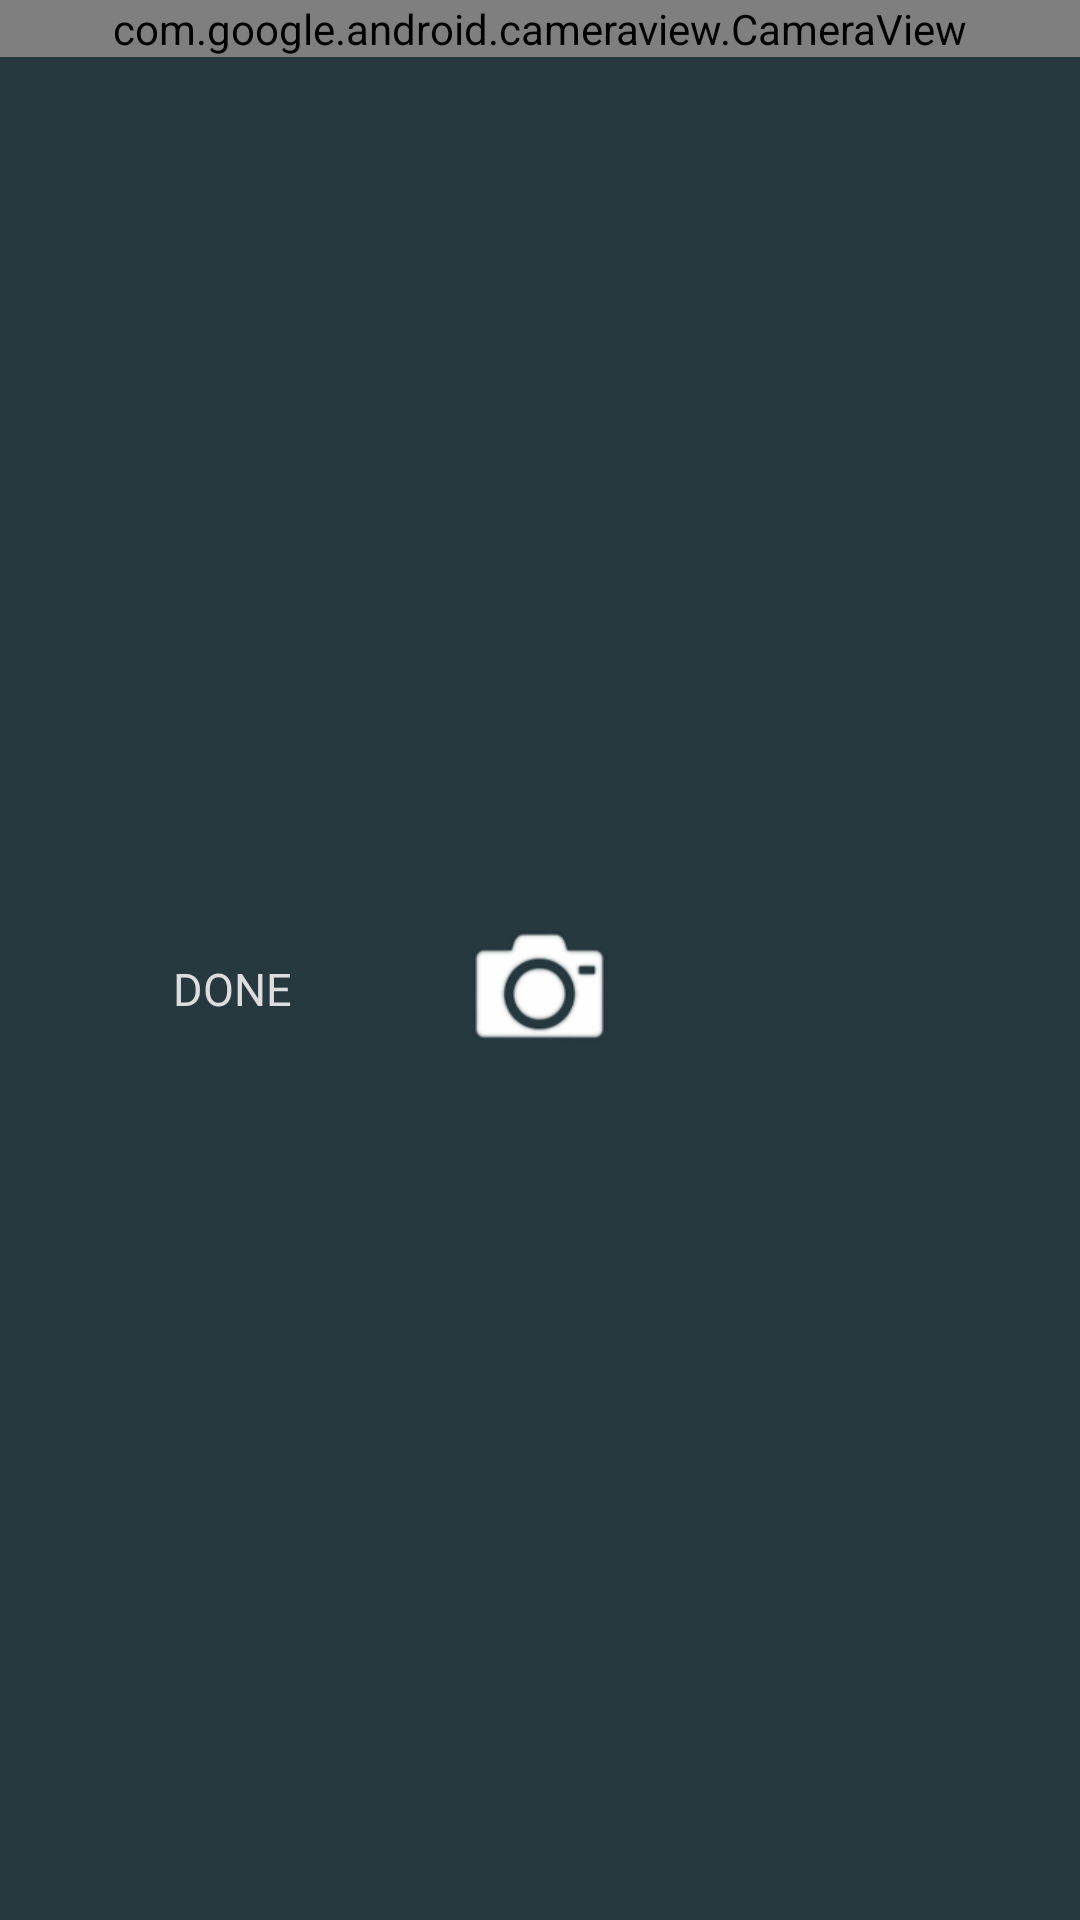

Icons on this 1080 × 1920 Android screen, each with its box as (x1, y1, x2, y2):
camera: (475, 934, 604, 1038)
